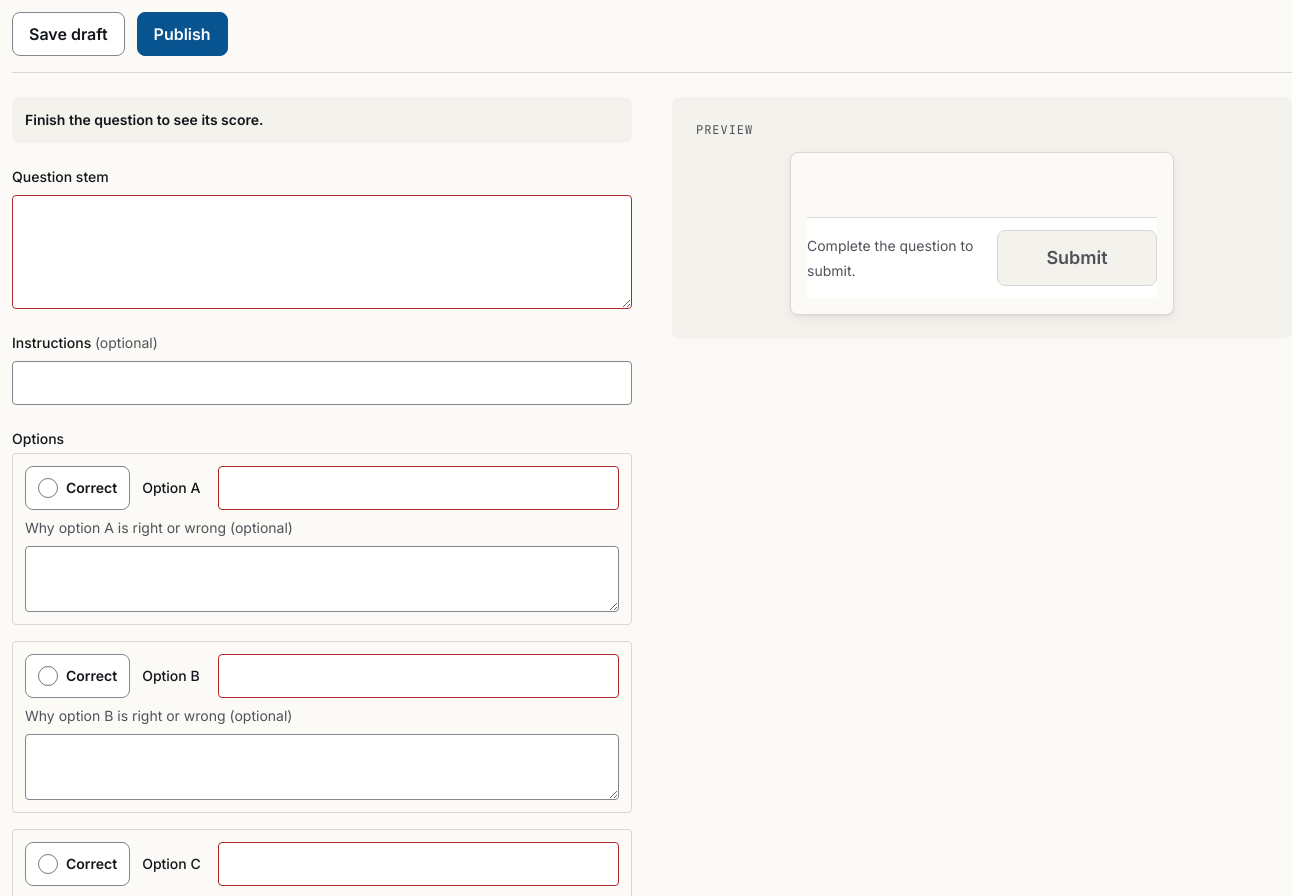
Test: MultipleChoiceEditor › marks unsaved changes
Expected: the text "Unsaved changes" is not shown
In the field labelled "Option B": (419, 676) [218,654,619,698], type "x"
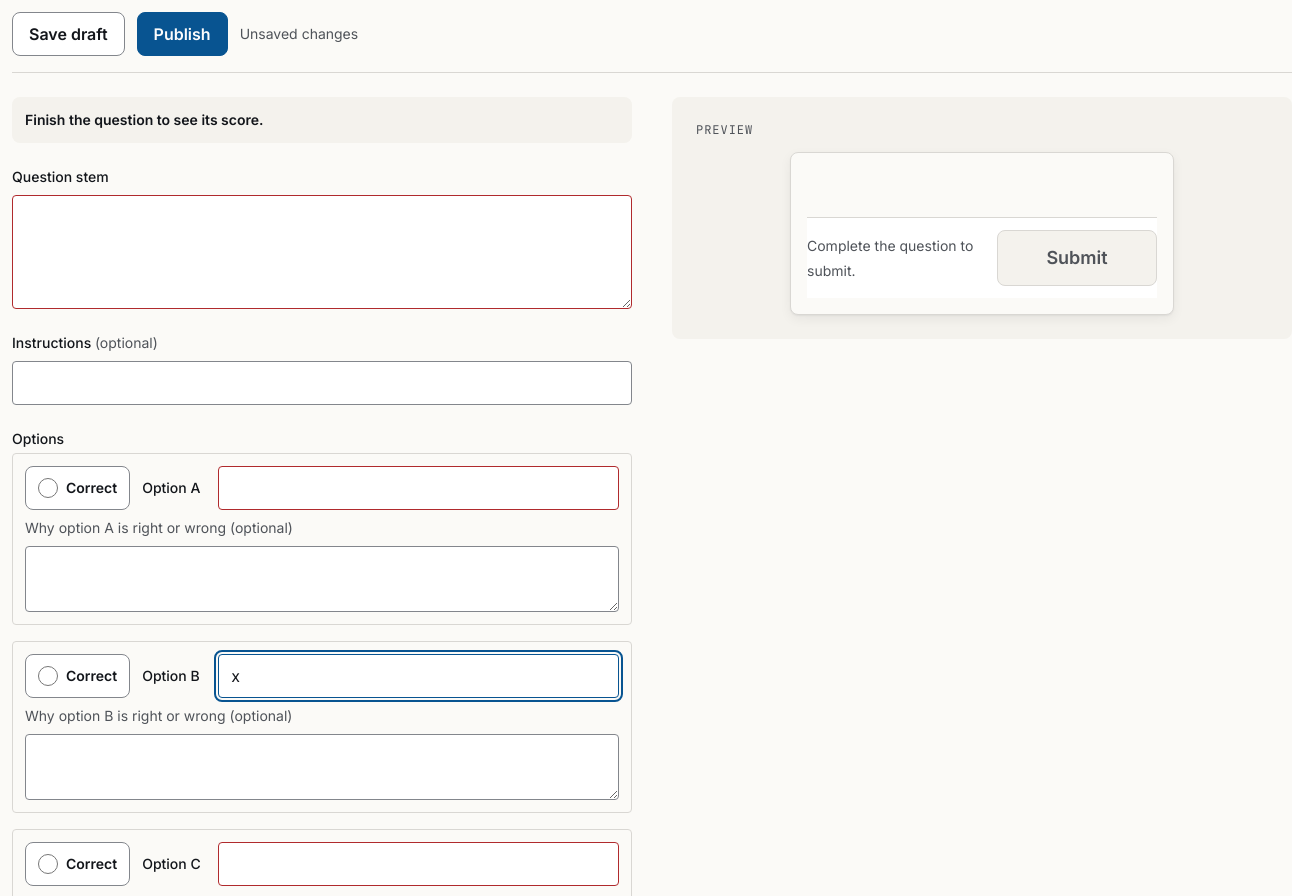
Expected: the text "Unsaved changes" is shown, [240,24,358,44]
